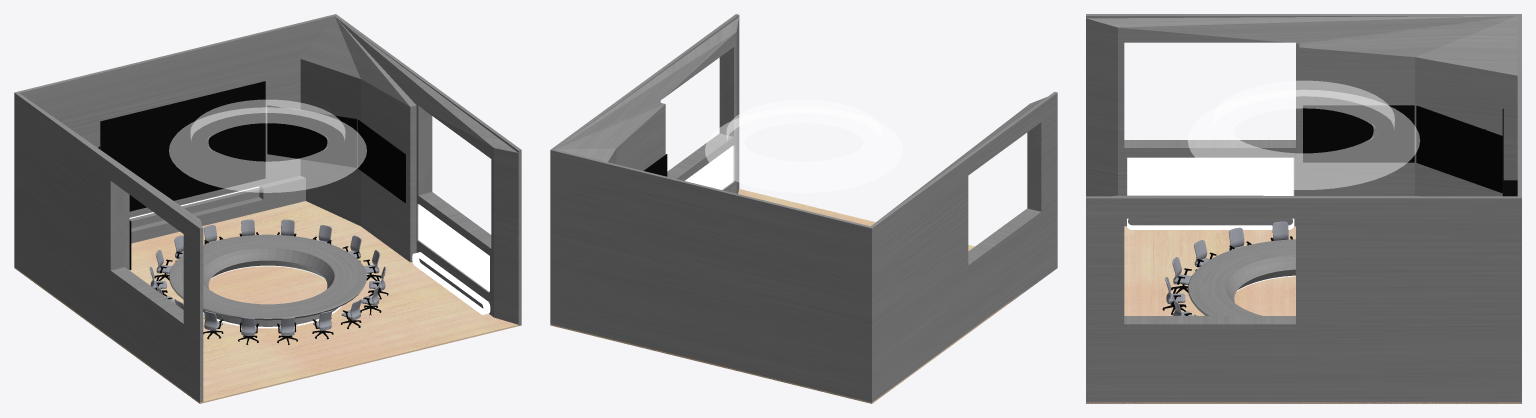
File: VirtualWarRoom.glb
The picture shows the model from 3 angles, left to right: view 1: azimuth 30°, elevation 25°; view 2: azimuth 150°, elevation 25°; view 3: azimuth 270°, elevation 25°; orthographic projection. The views are drawn at different scales.
Visible parts, largest first — view 1: Wall, Floor, Screen, RoundLamp, RoundTable, Chair, Screen_R1, TVStand, ScreenBoard_Glass_R, ScreenBoard_R, Screen_R2, Bench_R; view 2: Wall, RoundLamp, Floor, ScreenBoard_Glass_R, ScreenBoard_R; view 3: Wall, RoundLamp, Floor, Screen_L2, ScreenBoard_L, ScreenBoard_Glass_L, Screen_L1, RoundTable, Chair, Bench_L.
Part boxes in pixels (left/top/right/bottom): Wall: left=14, top=14, right=521, bottom=403; Floor: left=14, top=201, right=521, bottom=403; Screen: left=100, top=81, right=265, bottom=211; RoundLamp: left=169, top=100, right=366, bottom=192; RoundTable: left=169, top=234, right=366, bottom=326; Chair: left=149, top=219, right=388, bottom=344; Screen_R1: left=267, top=105, right=356, bottom=167; TVStand: left=131, top=175, right=305, bottom=243; ScreenBoard_Glass_R: left=417, top=204, right=488, bottom=292; ScreenBoard_R: left=418, top=204, right=489, bottom=291; Screen_R2: left=357, top=119, right=405, bottom=202; Bench_R: left=412, top=252, right=490, bottom=314; Wall: left=550, top=14, right=1057, bottom=403; RoundLamp: left=705, top=100, right=902, bottom=192; Floor: left=550, top=189, right=1027, bottom=403; ScreenBoard_Glass_R: left=686, top=146, right=734, bottom=189; ScreenBoard_R: left=685, top=146, right=733, bottom=189; Wall: left=1086, top=14, right=1521, bottom=403; RoundLamp: left=1188, top=81, right=1419, bottom=189; Floor: left=1086, top=226, right=1521, bottom=403; Screen_L2: left=1303, top=105, right=1414, bottom=162; ScreenBoard_L: left=1127, top=157, right=1293, bottom=195; ScreenBoard_Glass_L: left=1127, top=158, right=1293, bottom=195; Screen_L1: left=1416, top=105, right=1502, bottom=192; RoundTable: left=1187, top=239, right=1295, bottom=315; Chair: left=1162, top=221, right=1292, bottom=315; Bench_L: left=1127, top=218, right=1294, bottom=229.
Size of the model in its own units: 15 by 7.81 by 15.
9 materials, 2 textured.
